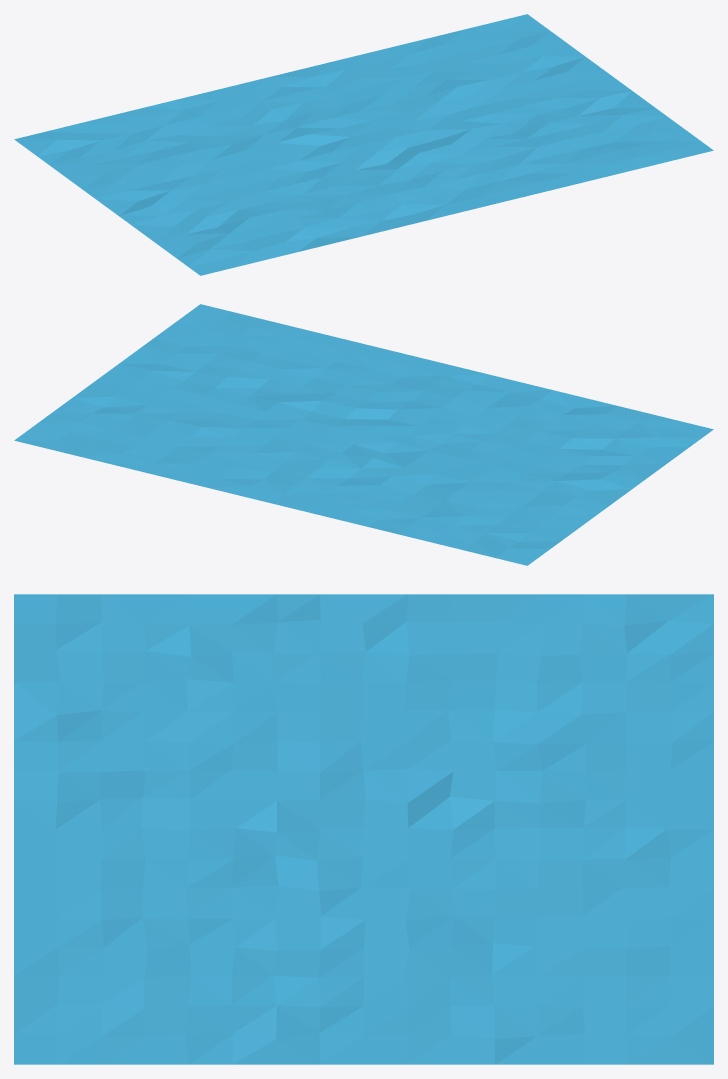
File: water_01.fbx
3 renders of one model, top to bottom at view 1: azimuth 30°, elevation 25°; view 2: azimuth 150°, elevation 25°; view 3: azimuth 270°, elevation 25°, orthographic. The views are drawn at different scales.
Parts seen in each view (by area): view 1: water_01.005; view 2: water_01.005; view 3: water_01.005.
Boxes of the visible parts, left/top/right/bottom form: water_01.005: left=14, top=14, right=713, bottom=275; water_01.005: left=14, top=304, right=713, bottom=565; water_01.005: left=14, top=594, right=713, bottom=1064.
Size of the model in its own units: 15897 by 117 by 10000.
